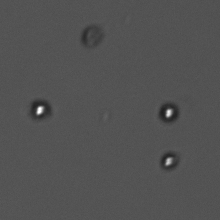Dead Cell: (78, 23, 110, 53)
Living Cell: (27, 98, 54, 122), (158, 100, 180, 123), (158, 149, 181, 171)
